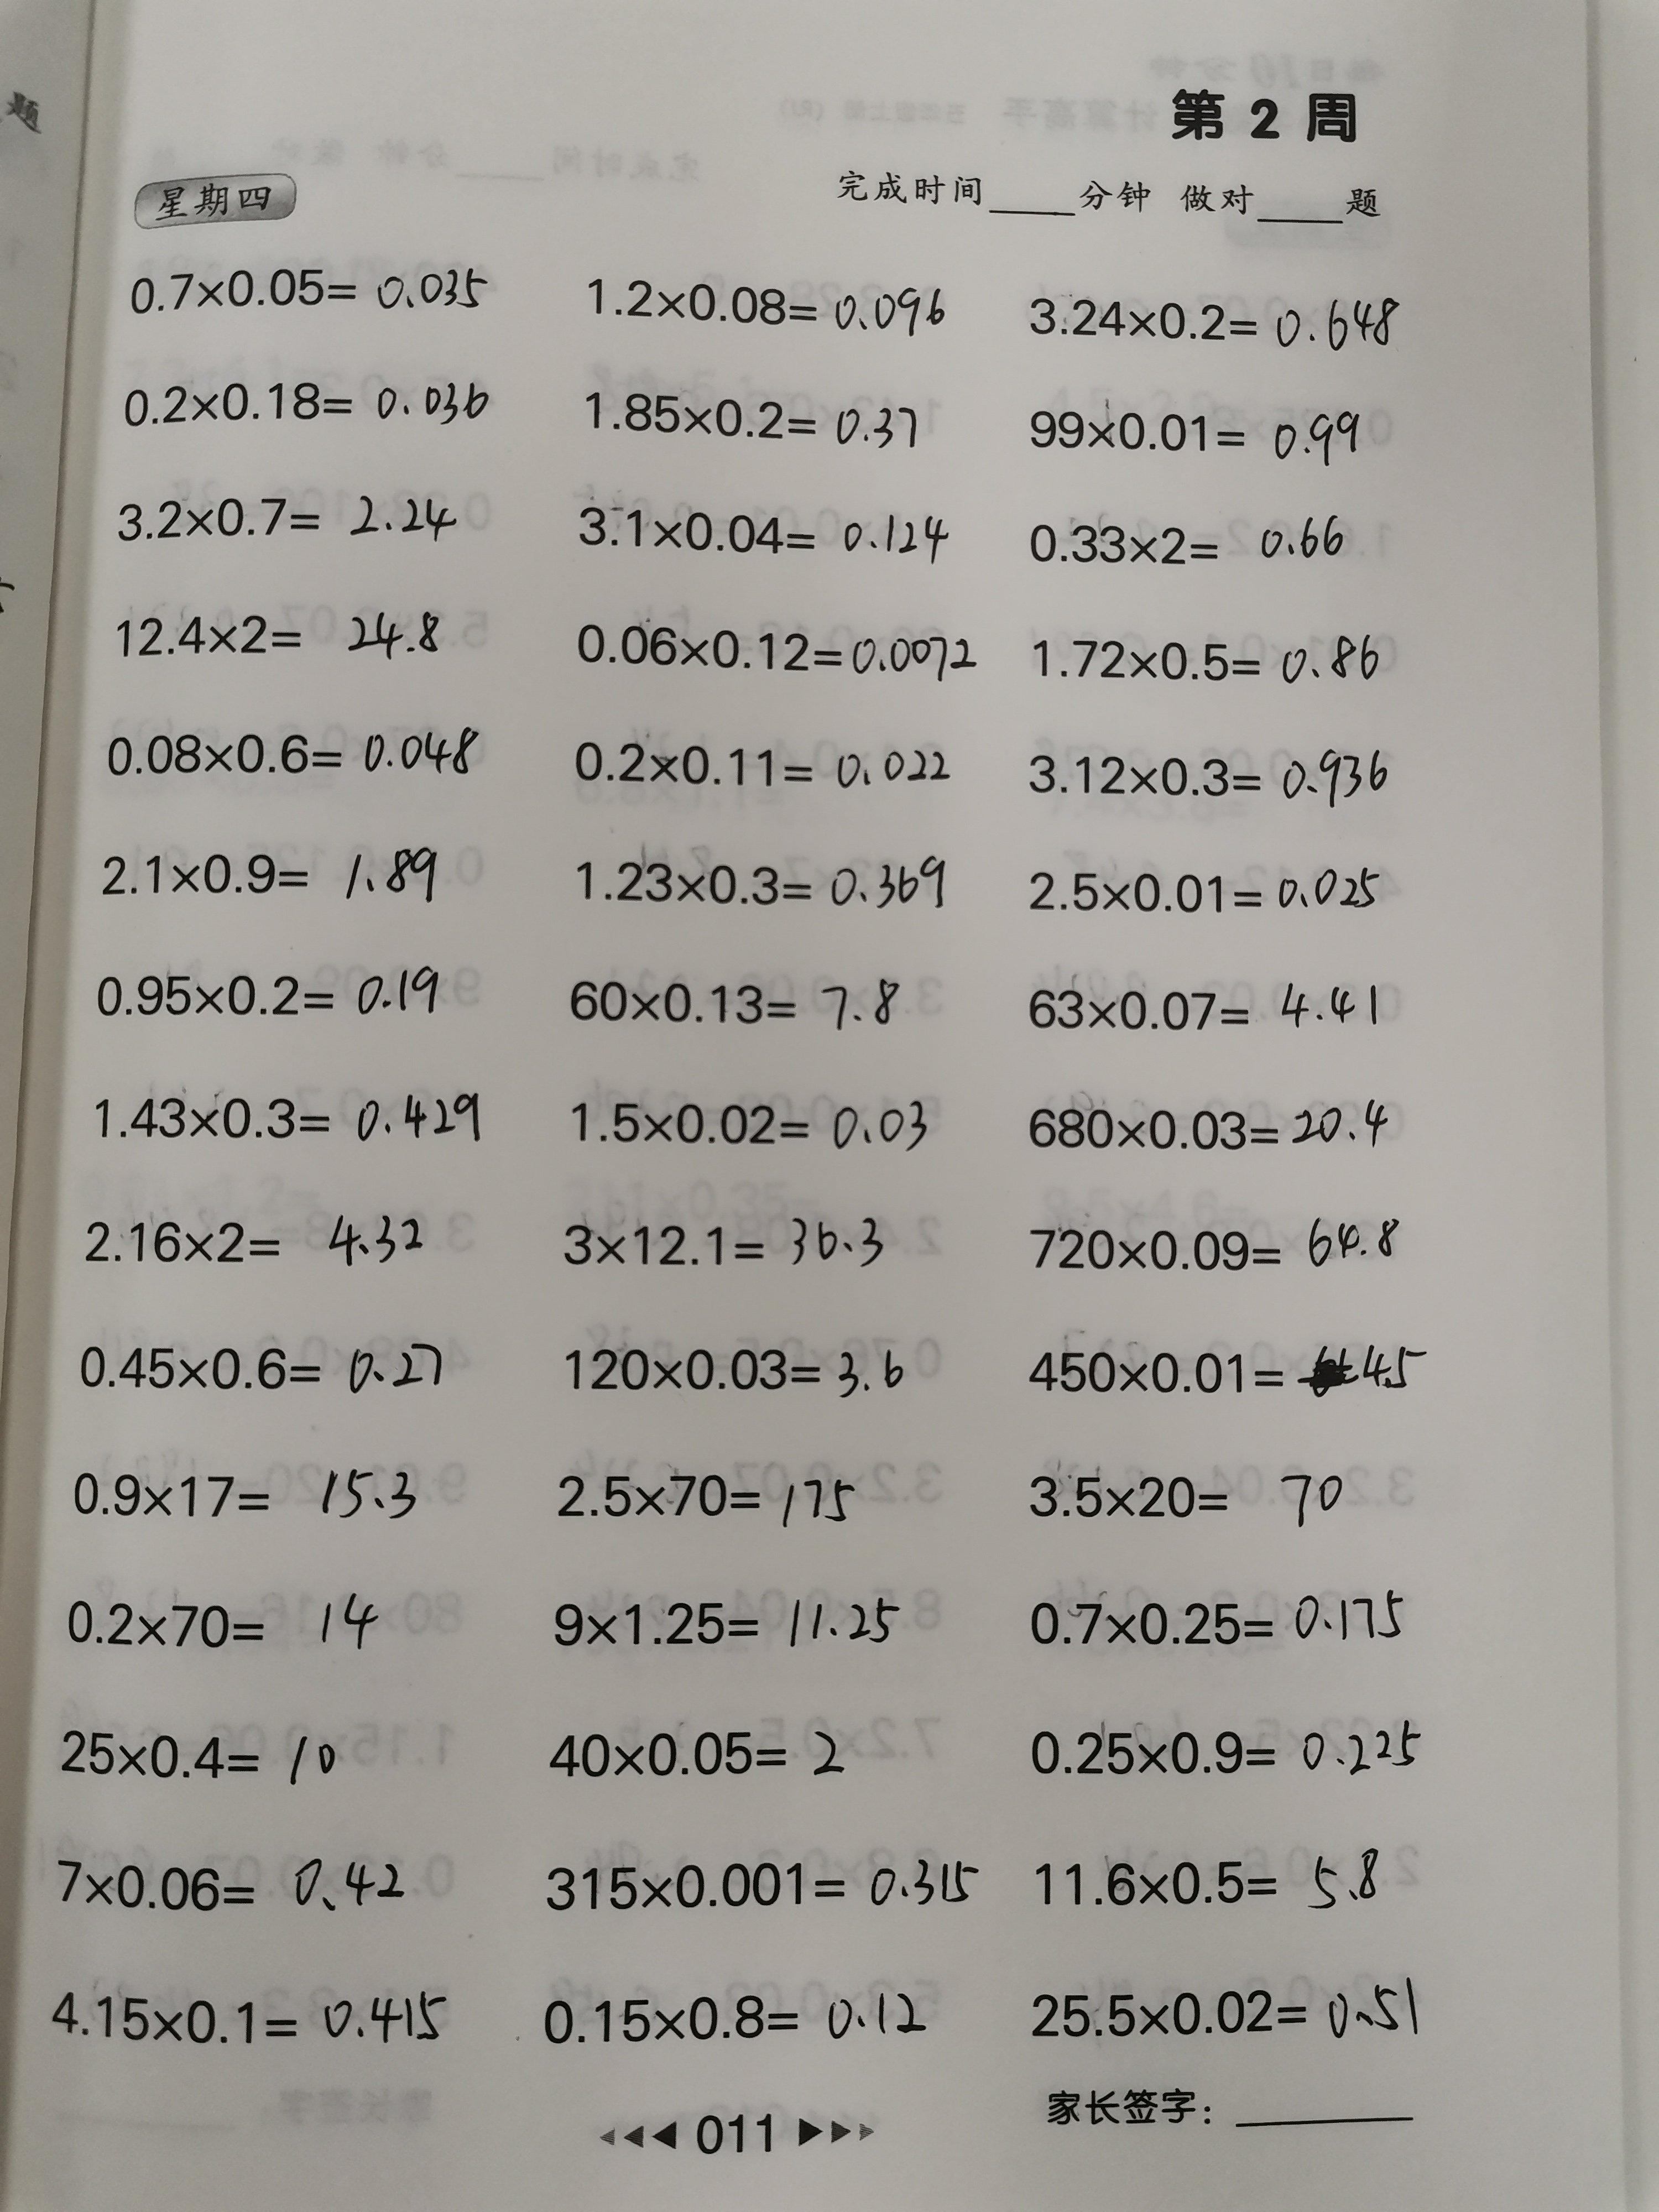equation: (531, 1834, 983, 1924), (1012, 1703, 1443, 1797), (1016, 1965, 1443, 2056), (524, 1974, 951, 2064), (1010, 1323, 1443, 1410), (547, 833, 964, 920), (562, 607, 986, 691), (66, 1191, 459, 1281), (40, 1969, 465, 2052), (547, 1327, 927, 1417), (579, 264, 972, 350), (560, 715, 975, 796), (568, 491, 962, 575), (79, 1073, 499, 1152), (1018, 275, 1416, 358), (68, 1318, 465, 1401), (1021, 385, 1381, 476), (573, 372, 946, 459), (40, 1834, 415, 1921), (94, 826, 457, 914), (68, 1449, 431, 1537), (538, 1576, 918, 1661), (1016, 1578, 1417, 1657), (553, 1084, 957, 1163), (1016, 1080, 1408, 1161), (40, 1702, 365, 1799), (1014, 850, 1420, 927), (542, 1193, 900, 1279), (74, 947, 461, 1027), (50, 1572, 398, 1661), (1010, 737, 1406, 815), (536, 1451, 881, 1539), (1012, 1206, 1410, 1281), (1012, 1445, 1373, 1528), (114, 361, 509, 437), (1019, 1840, 1401, 1917), (100, 713, 494, 787), (1018, 615, 1397, 691), (559, 961, 911, 1038), (1021, 972, 1410, 1041), (111, 476, 466, 551), (122, 256, 502, 325), (1021, 503, 1373, 575), (535, 1713, 870, 1782), (109, 603, 455, 669)
